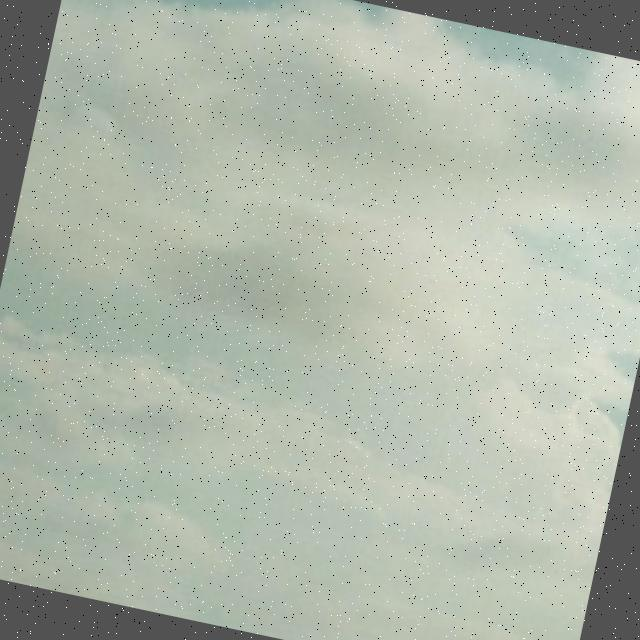St: (1, 1, 640, 580)
